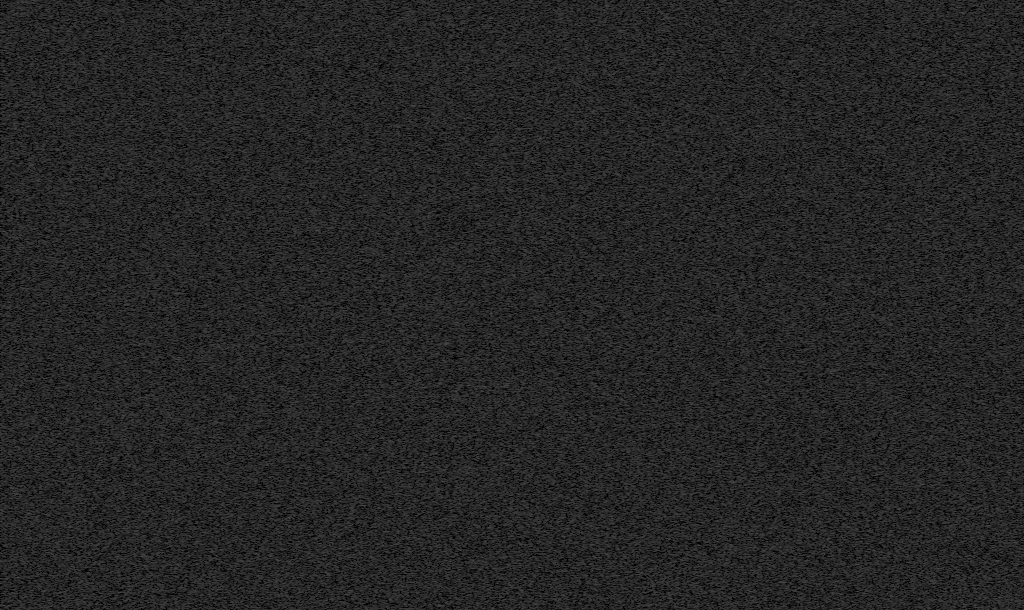wv_am: (466, 0, 471, 610), (553, 0, 558, 610)
wv_cw: (611, 0, 616, 610), (499, 0, 503, 610)
wv_lsb: (714, 205, 720, 435), (714, 7, 720, 204), (714, 436, 720, 610)
wv_wbfm: (813, 0, 893, 610), (173, 0, 241, 610), (47, 0, 101, 610), (339, 0, 392, 610), (387, 606, 393, 610), (390, 477, 394, 481), (392, 350, 395, 354), (391, 586, 394, 589), (391, 507, 394, 510), (335, 489, 338, 492), (390, 161, 393, 164)
